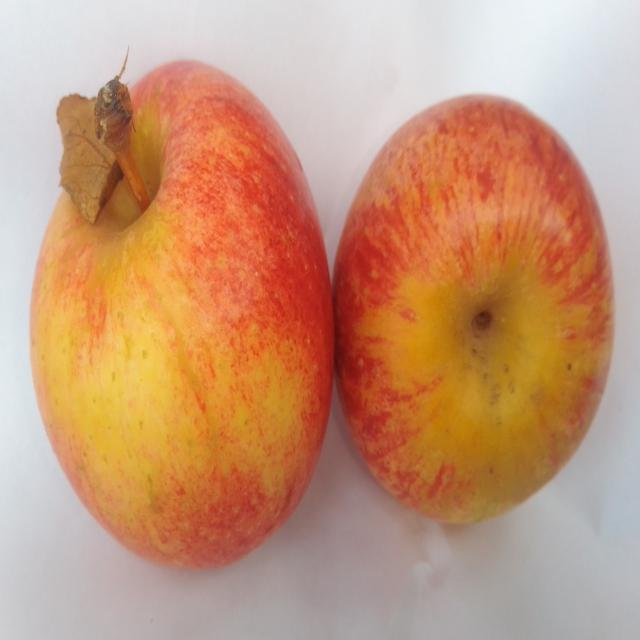apple: (31, 62, 333, 567), (333, 97, 613, 522)
